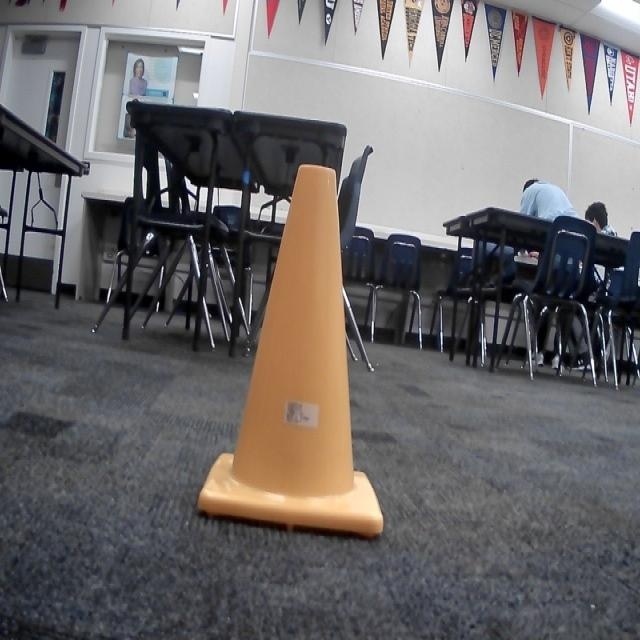cone: (198, 164, 383, 536)
